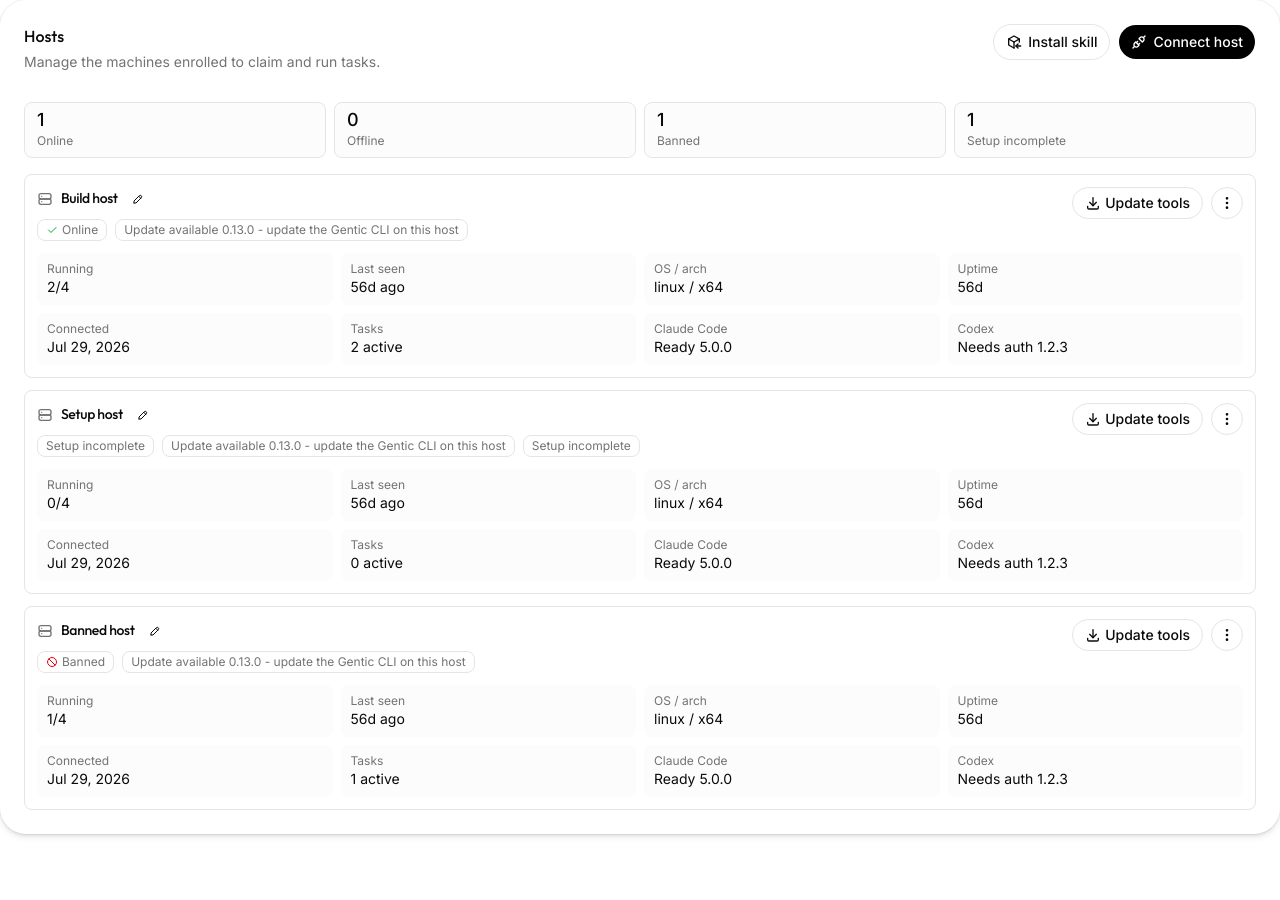
HostsSection › copies the connect command to the clipboard
The image size is (1280, 900).
Click the button "Connect host".
click(1187, 42)  # box [1118, 24, 1256, 60]
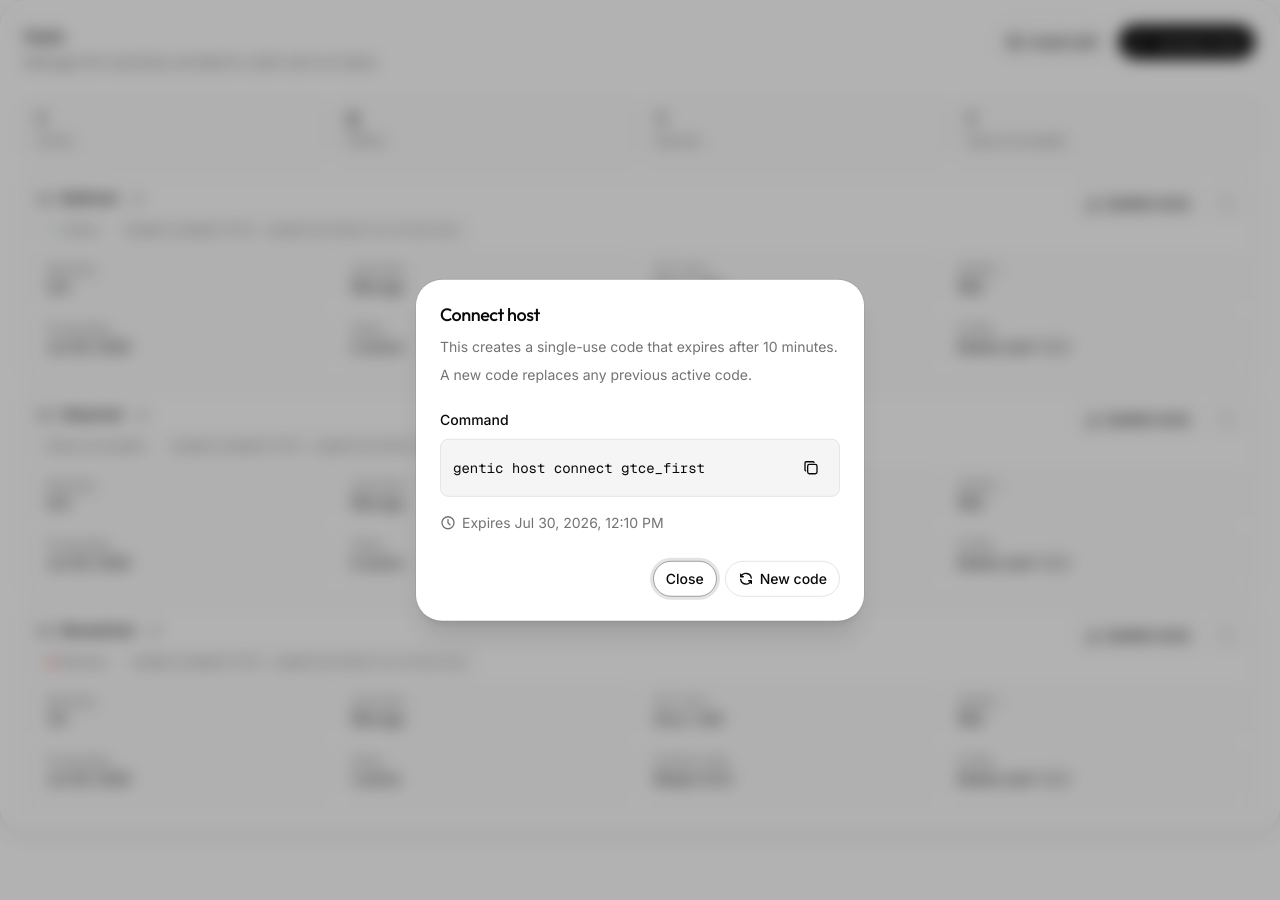
Expected: the text "gentic host connect gtce_first" is shown, [453, 458, 705, 476]
Click the button named "Copy command".
click(811, 467)  # box [795, 451, 827, 483]
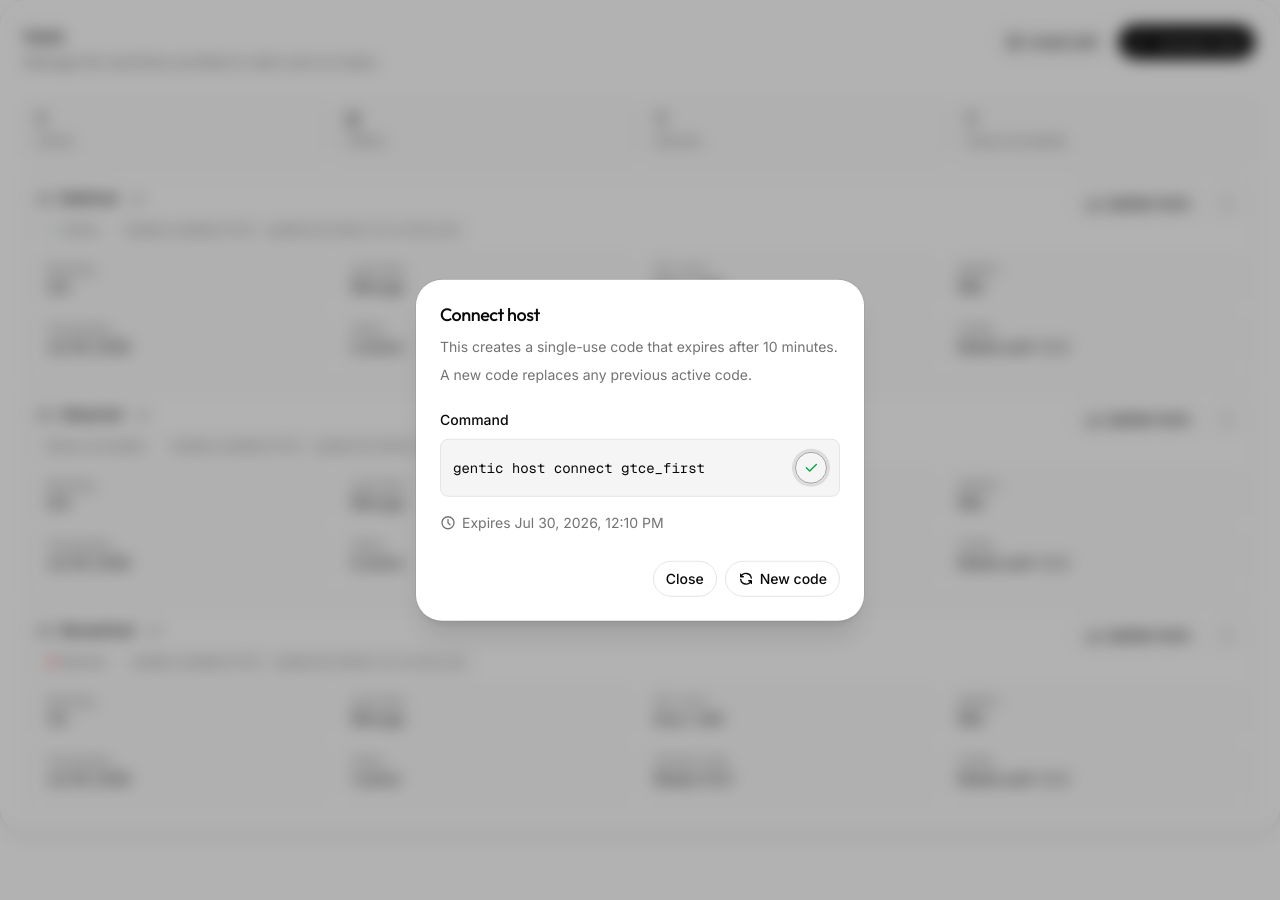
Expected: the button named "Copied" is shown, [795, 451, 827, 483]
